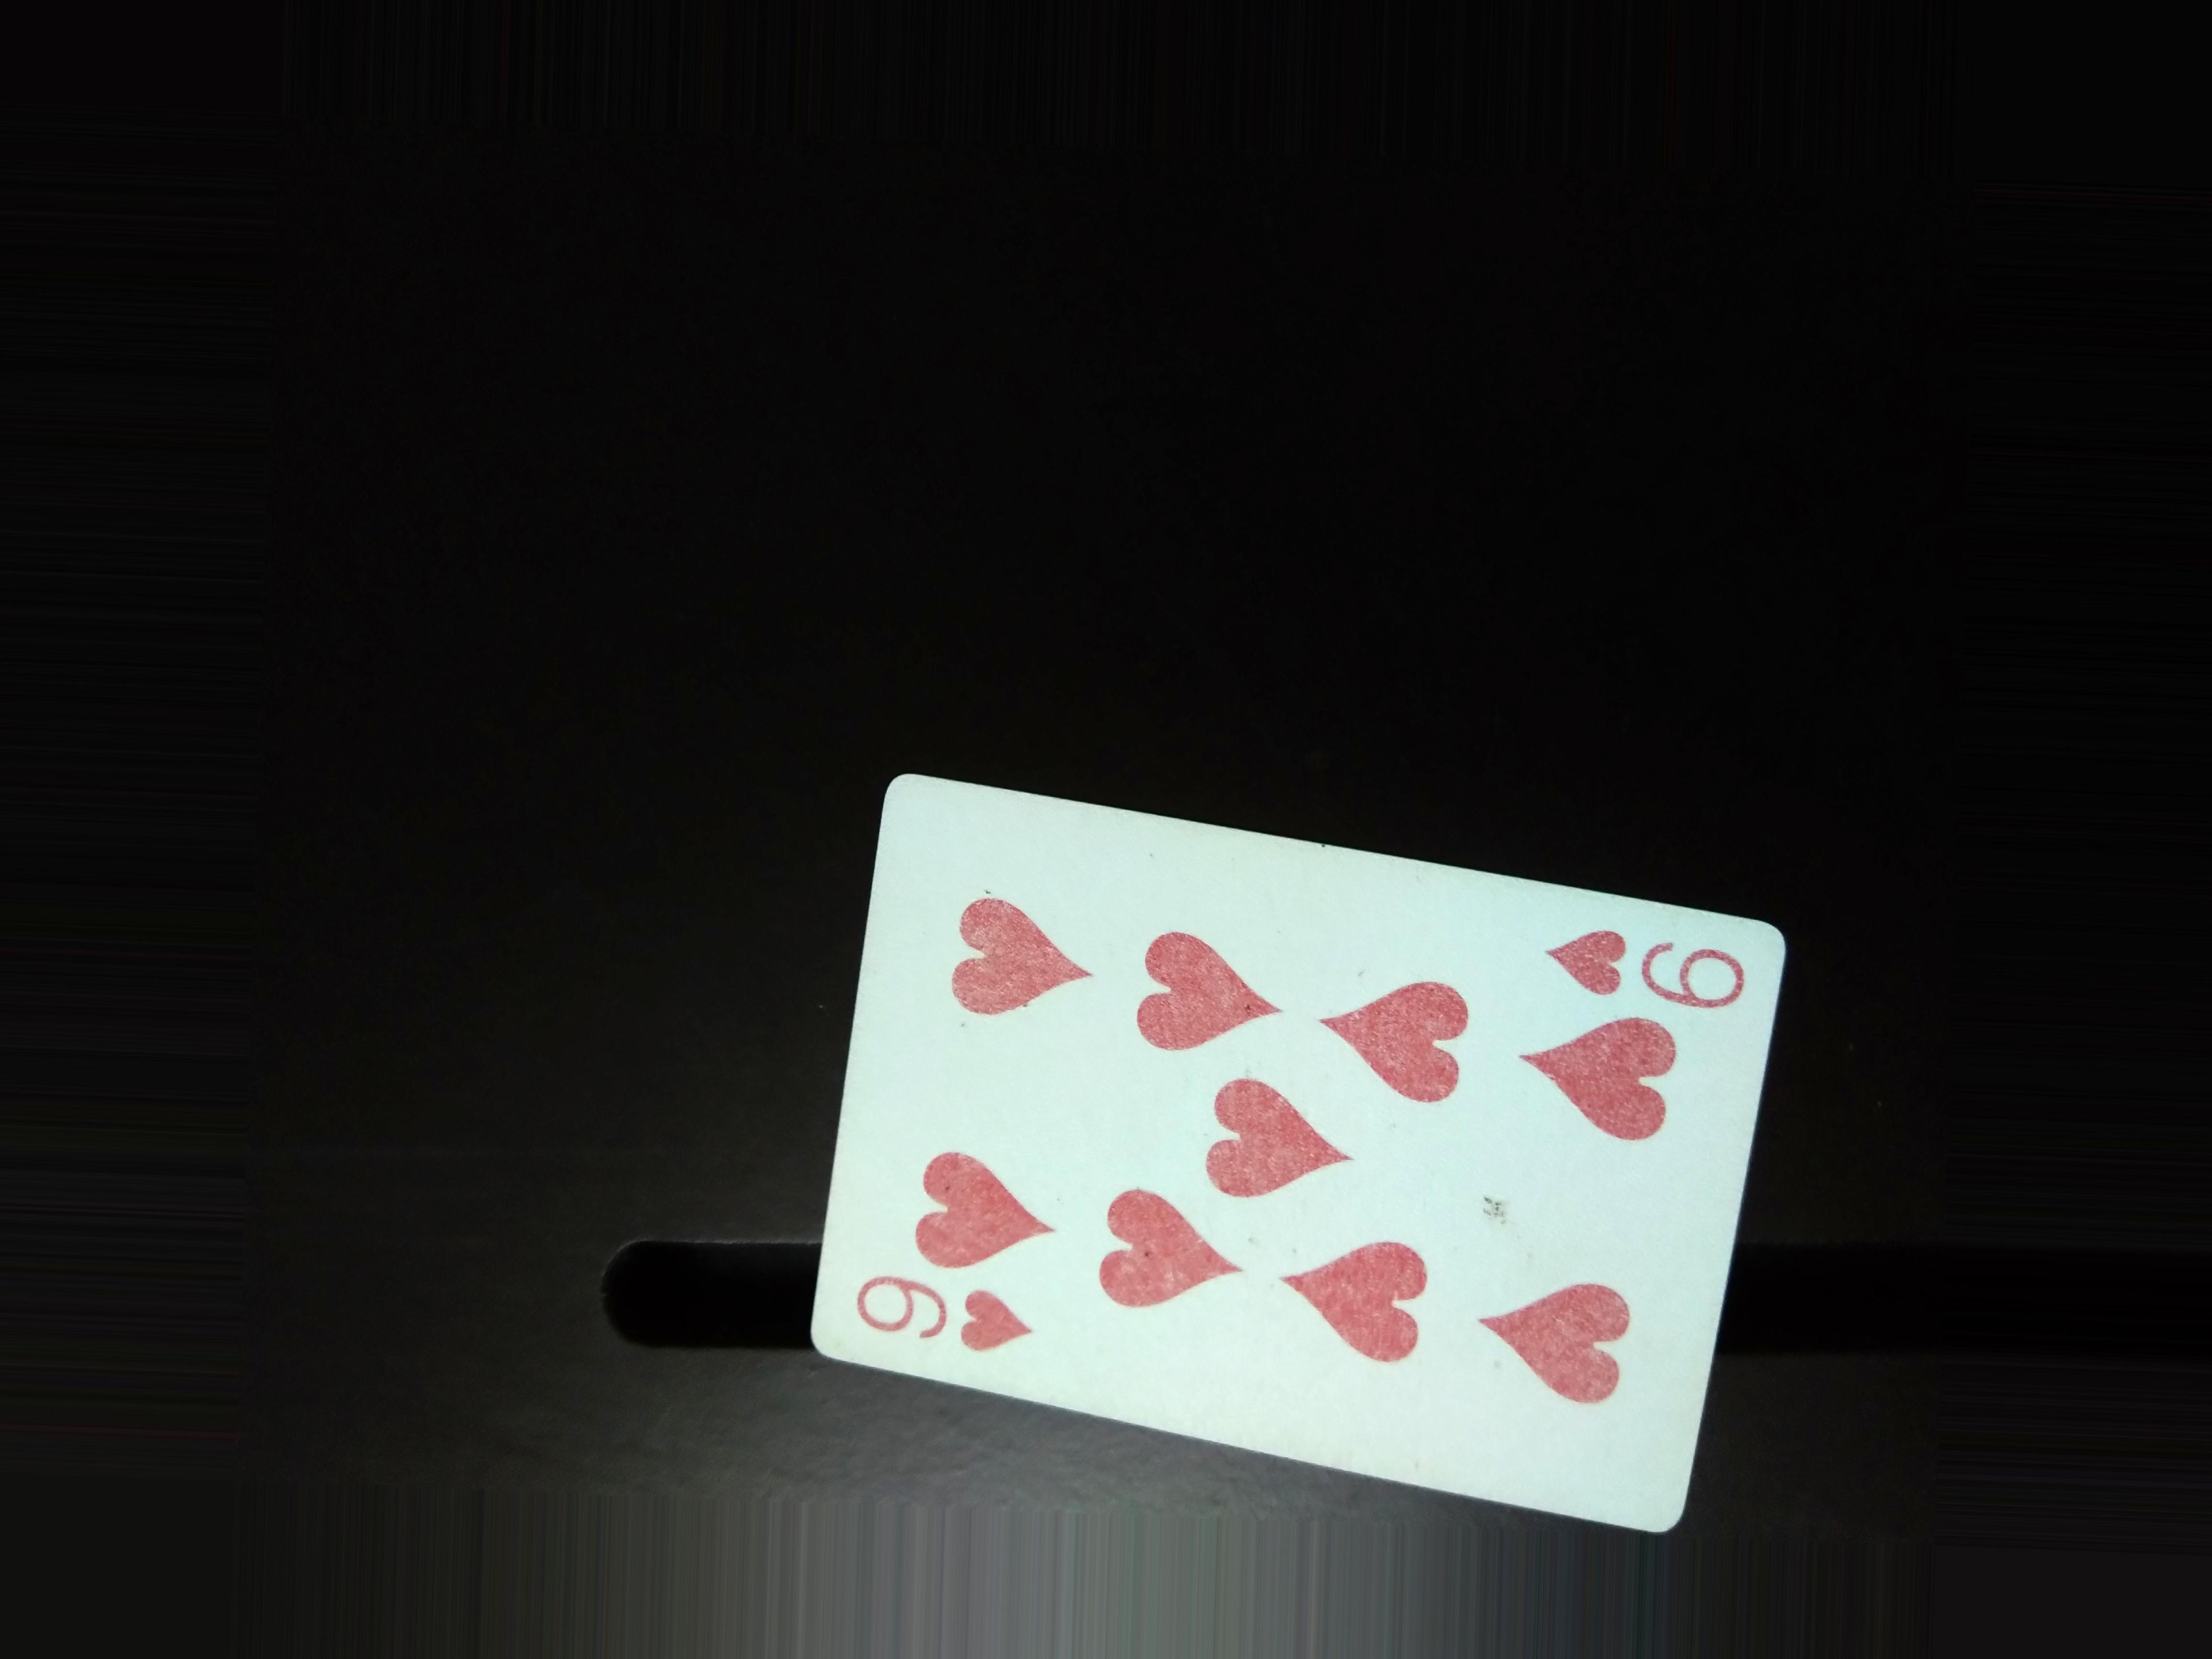9H: (1519, 903, 1775, 1006)
